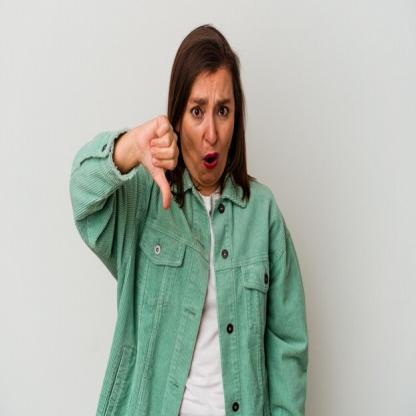thumb_down: (137, 112, 182, 214)
